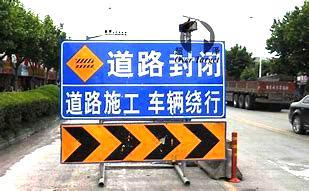sign: (59, 40, 226, 161)
